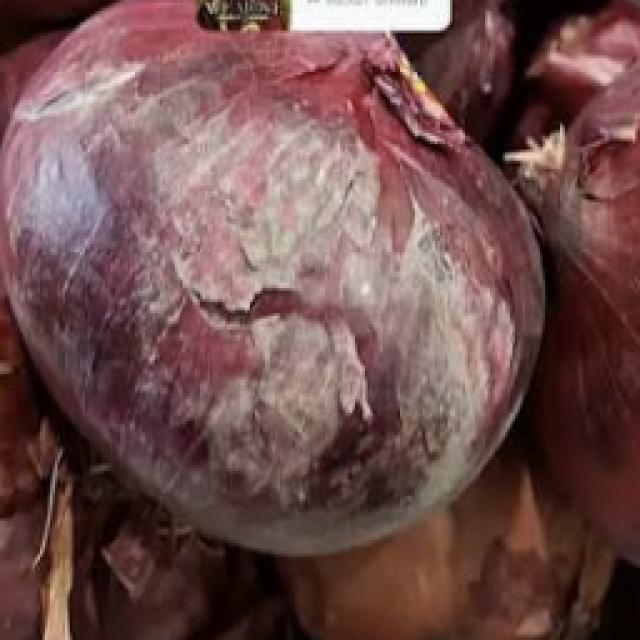mechanical_damage: (0, 6, 540, 551)
